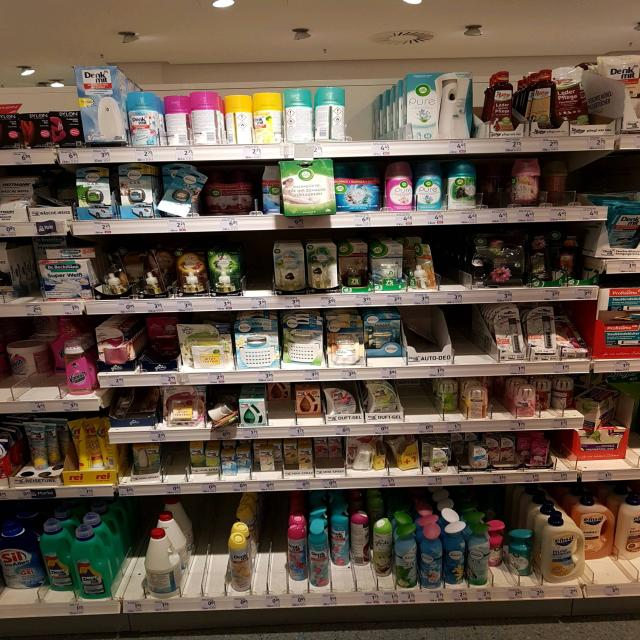void: (111, 514, 142, 612), (256, 510, 282, 607), (350, 82, 384, 155), (441, 226, 472, 304), (458, 306, 490, 376), (574, 155, 602, 221), (401, 382, 433, 434), (247, 237, 270, 309), (166, 445, 186, 492)
